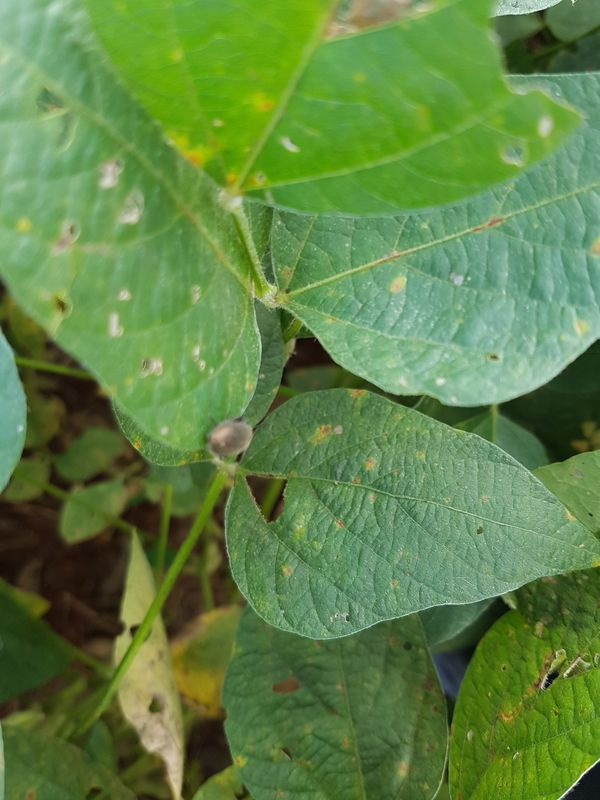Lagria_villosa: (195, 409, 263, 473)
